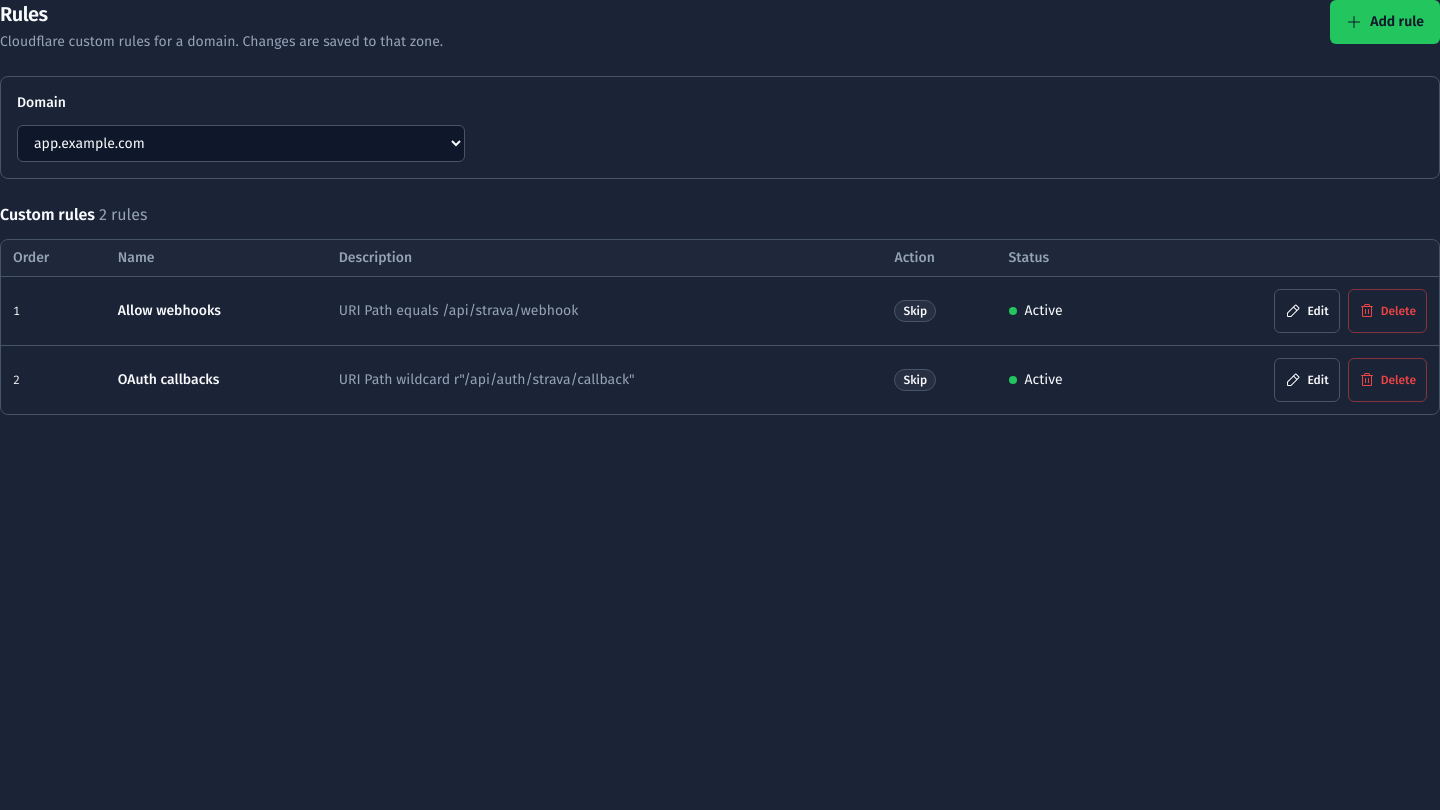
Test: RulesPage › shows the rule name and the full expression in the editor
Expected: the text "Allow webhooks" is shown, [106,276,327,346]
Expected: the text "URI Path equals /api/strava/webhook" is shown, [327,276,882,346]
Click the button "Edit" in the row of "Allow webhooks": [1307, 311] box [1274,289,1340,333]
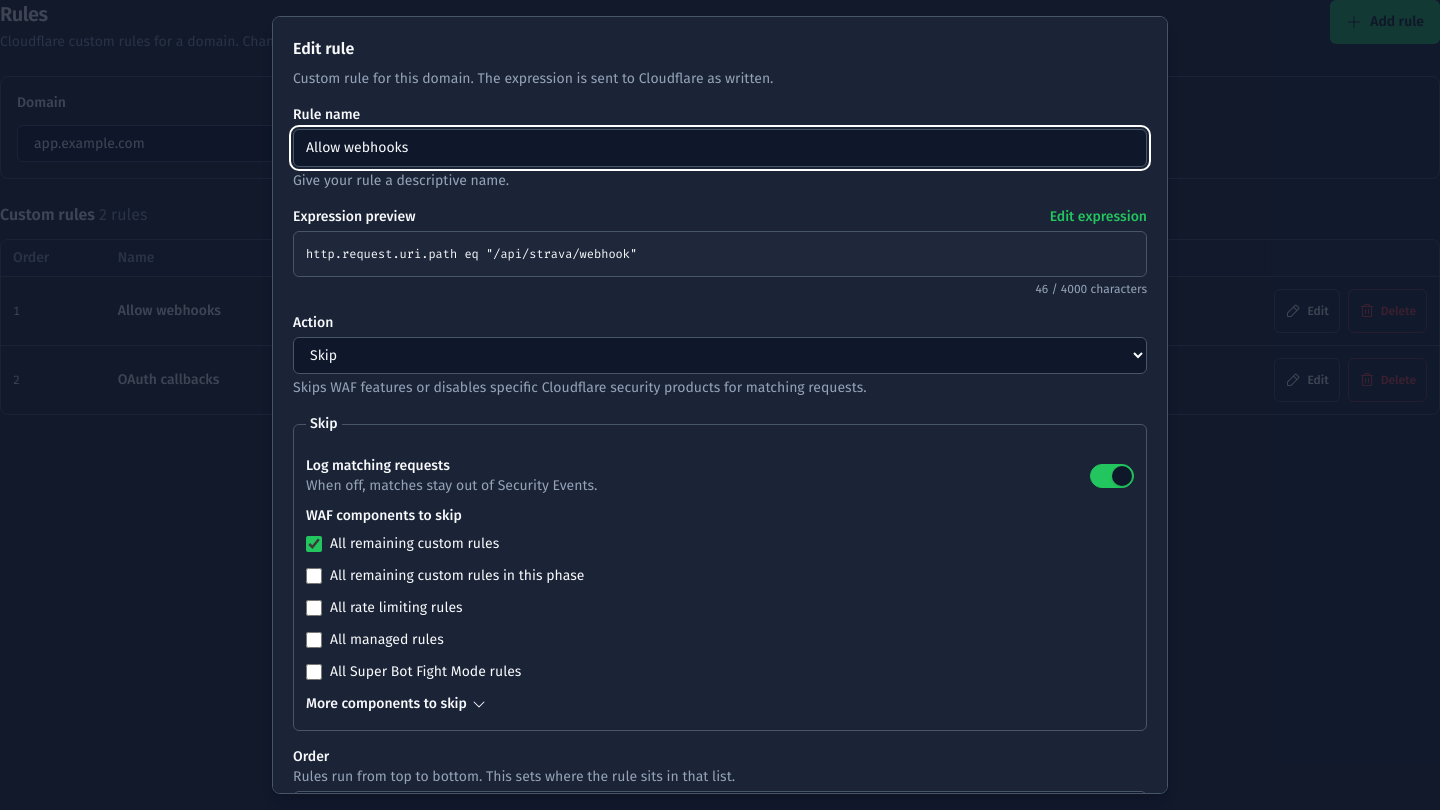
Expected: the text "http.request.uri.path eq \"/api/strava/webhook\"" is shown, [293,231,1147,277]
Replace the text in the field labelled "Rule name" with "Webhook bypass": [720, 148] box [293,129,1147,167]
(page scrolled)
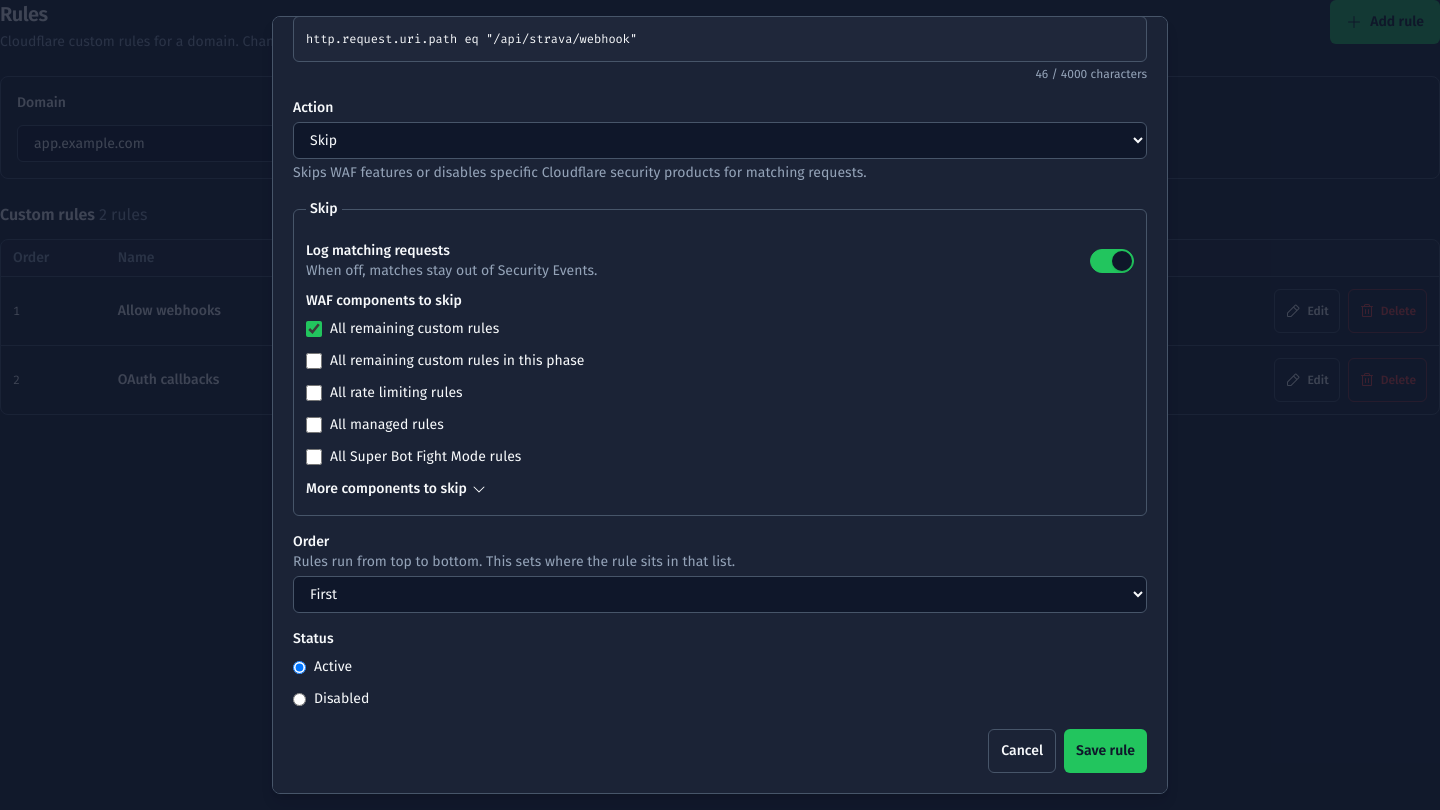
Click the button "Save rule": [1106, 751] box [1064,729,1147,773]
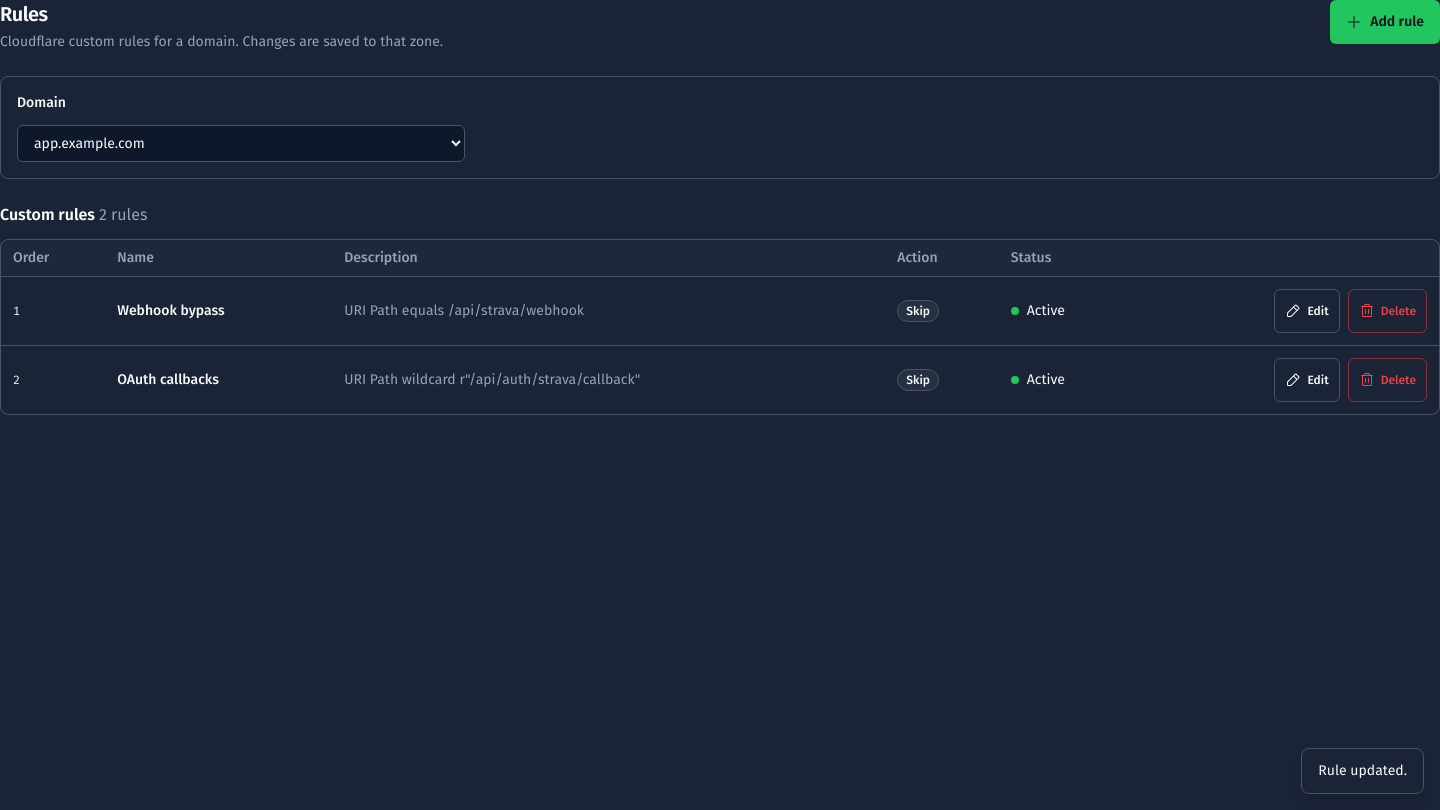
Expected: the text "URI Path equals /api/strava/webhook" is shown, [332,276,885,346]
Expected: the text "Webhook bypass" is shown, [105,276,332,346]
Expected: the message reads "Rule updated.", [1318,762,1407,779]
